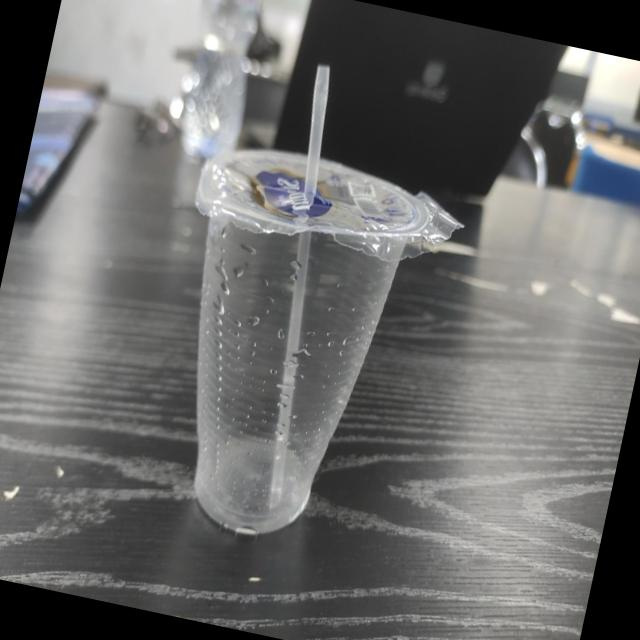GelasPlastik: (127, 128, 473, 568)
